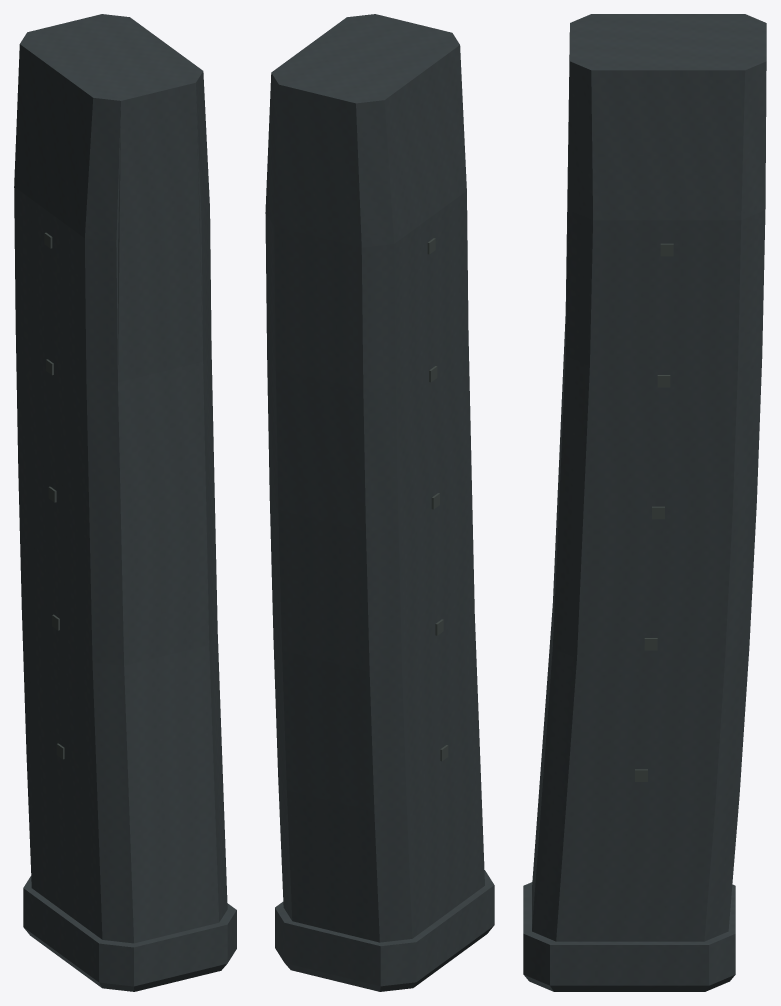
The model's file is kedr_20.glb.
3 views of the same model, side by side, from view 1: azimuth 30°, elevation 25°; view 2: azimuth 150°, elevation 25°; view 3: azimuth 270°, elevation 25° (orthographic). The views are drawn at different scales.
Visible parts, largest first — view 1: kedr_20_individual_shell.001, kedr_20_individual_shell, kedr_20_witness_inset; view 2: kedr_20_individual_shell, kedr_20_individual_shell.001, kedr_20_witness_inset; view 3: kedr_20_individual_shell, kedr_20_individual_shell.001, kedr_20_witness_inset.
Part boxes in pixels (x1,y1,x2,y2): kedr_20_individual_shell.001: (16,82,227,943); kedr_20_individual_shell: (14,14,236,991); kedr_20_witness_inset: (44,232,64,759); kedr_20_individual_shell: (265,14,494,991); kedr_20_individual_shell.001: (396,333,484,937); kedr_20_witness_inset: (427,238,448,761); kedr_20_individual_shell: (523,14,766,991); kedr_20_individual_shell.001: (532,32,737,941); kedr_20_witness_inset: (635,243,673,781).
Size of the model in its own units: 0.0517 by 0.314 by 0.0754.
Materials: 2 (1 with a texture image).
